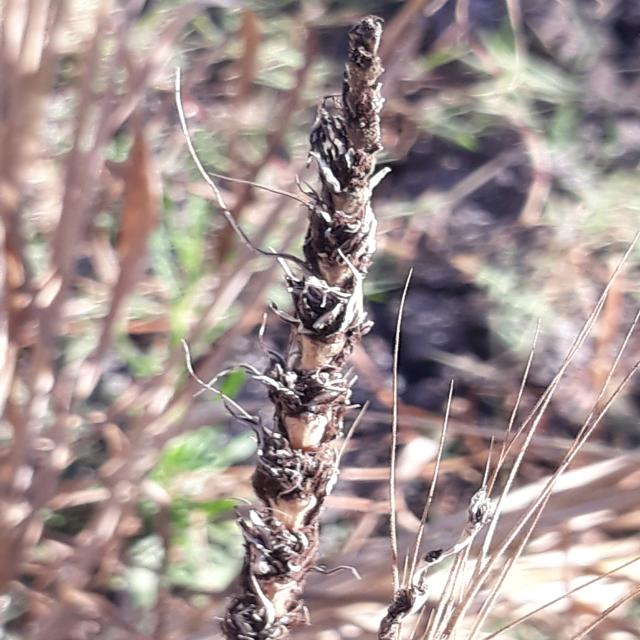loose_charred: (170, 6, 405, 640), (351, 449, 611, 640)
